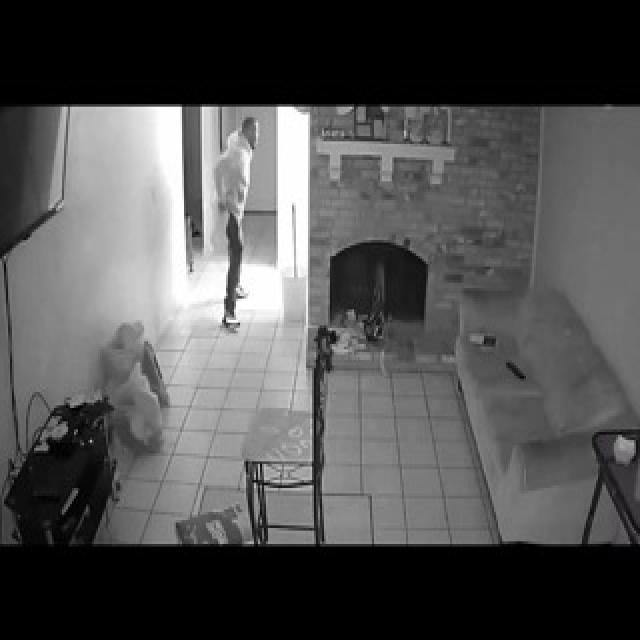thief: (220, 111, 266, 219)
